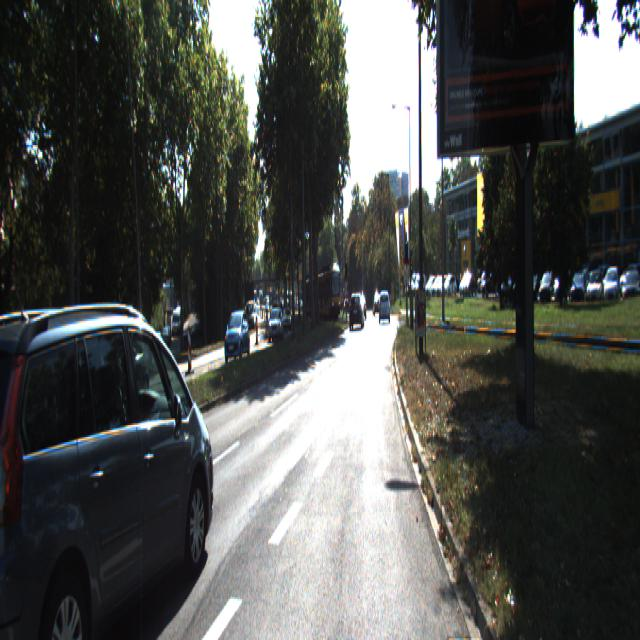Car: (0, 271, 216, 639), (86, 321, 152, 420), (307, 267, 341, 322), (224, 310, 251, 362), (349, 293, 365, 330), (379, 292, 390, 324)
